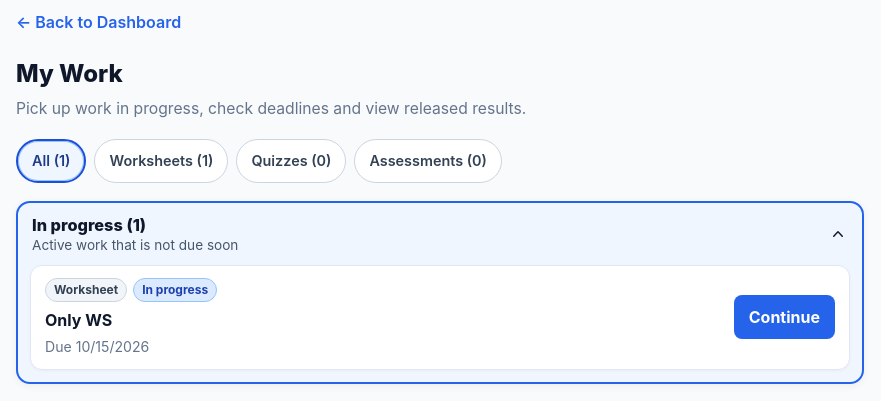
type filter empty state
Check: the heading "Only WS" is shown, box [45,310,112,330]
Step 1. Click the button "Quizzes (0)" → (291, 161), box [236,139,346,183]
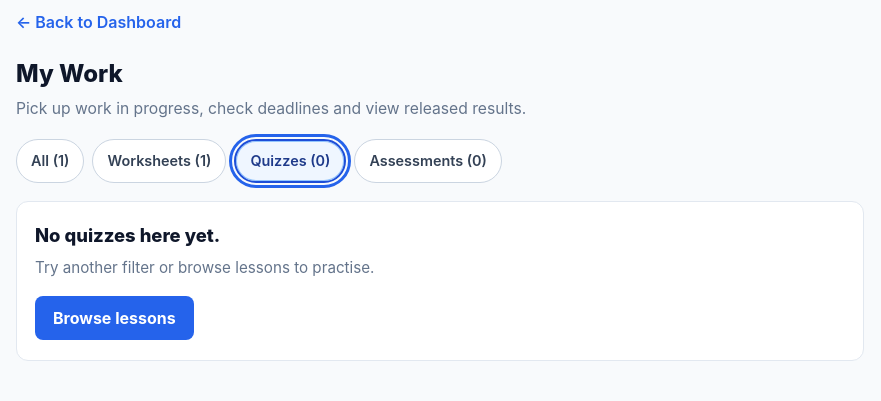
Check: the heading "No quizzes here yet." is shown, box [35,224,220,246]
